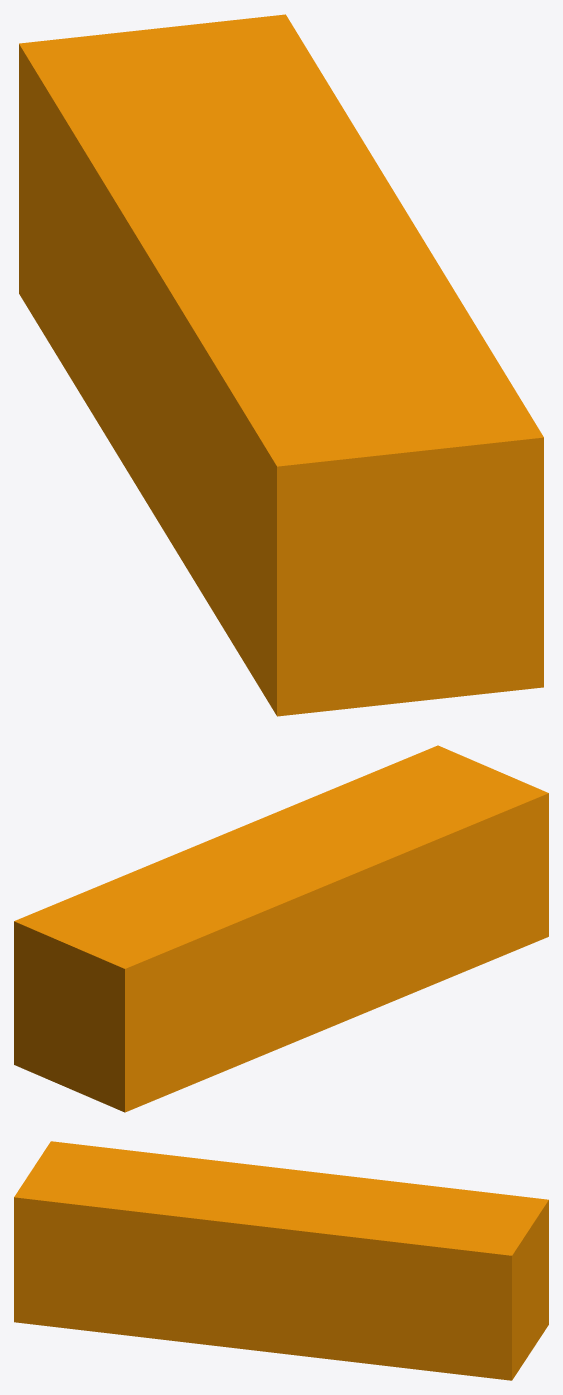
File: BlockModel.fbx
The picture shows the model from 3 angles, top to bottom: view 1: azimuth 30°, elevation 25°; view 2: azimuth 150°, elevation 25°; view 3: azimuth 270°, elevation 25°; orthographic projection. The views are drawn at different scales.
Visible parts, largest first — view 1: BlockModel; view 2: BlockModel; view 3: BlockModel.
Part boxes in pixels (bbox=[...]): BlockModel: bbox=[19, 14, 543, 716]; BlockModel: bbox=[14, 745, 548, 1112]; BlockModel: bbox=[14, 1141, 548, 1380].
Size of the model in its own units: 78.71 by 40 by 155.
